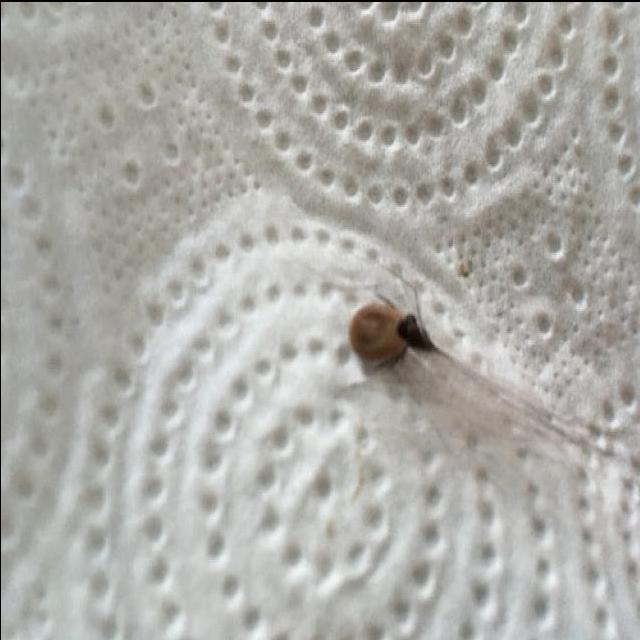Ixodes Ricinus-F-Fed: (344, 295, 431, 377)
